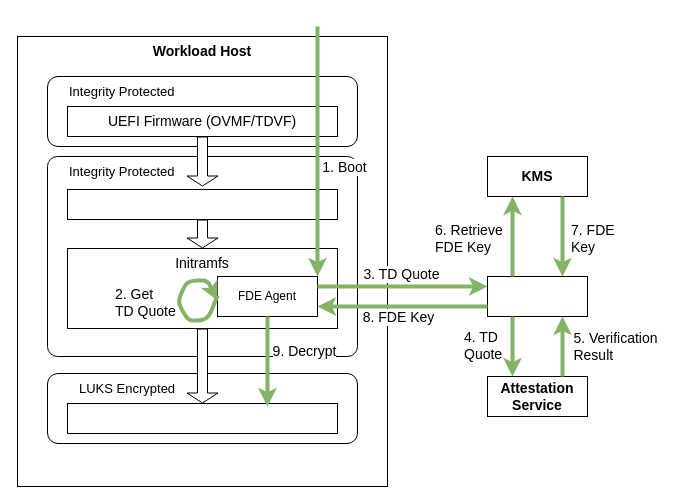
This 674x504 diagram has some shape labels left out. The shapes that lost their labels are listed below. From the top down, each one's centre as x and y in pixels, then its label:
At point (202, 204): "Linux Kernel".
At point (537, 296): "KBS".
At point (202, 418): "OS on Root Filesystem + Workload".
